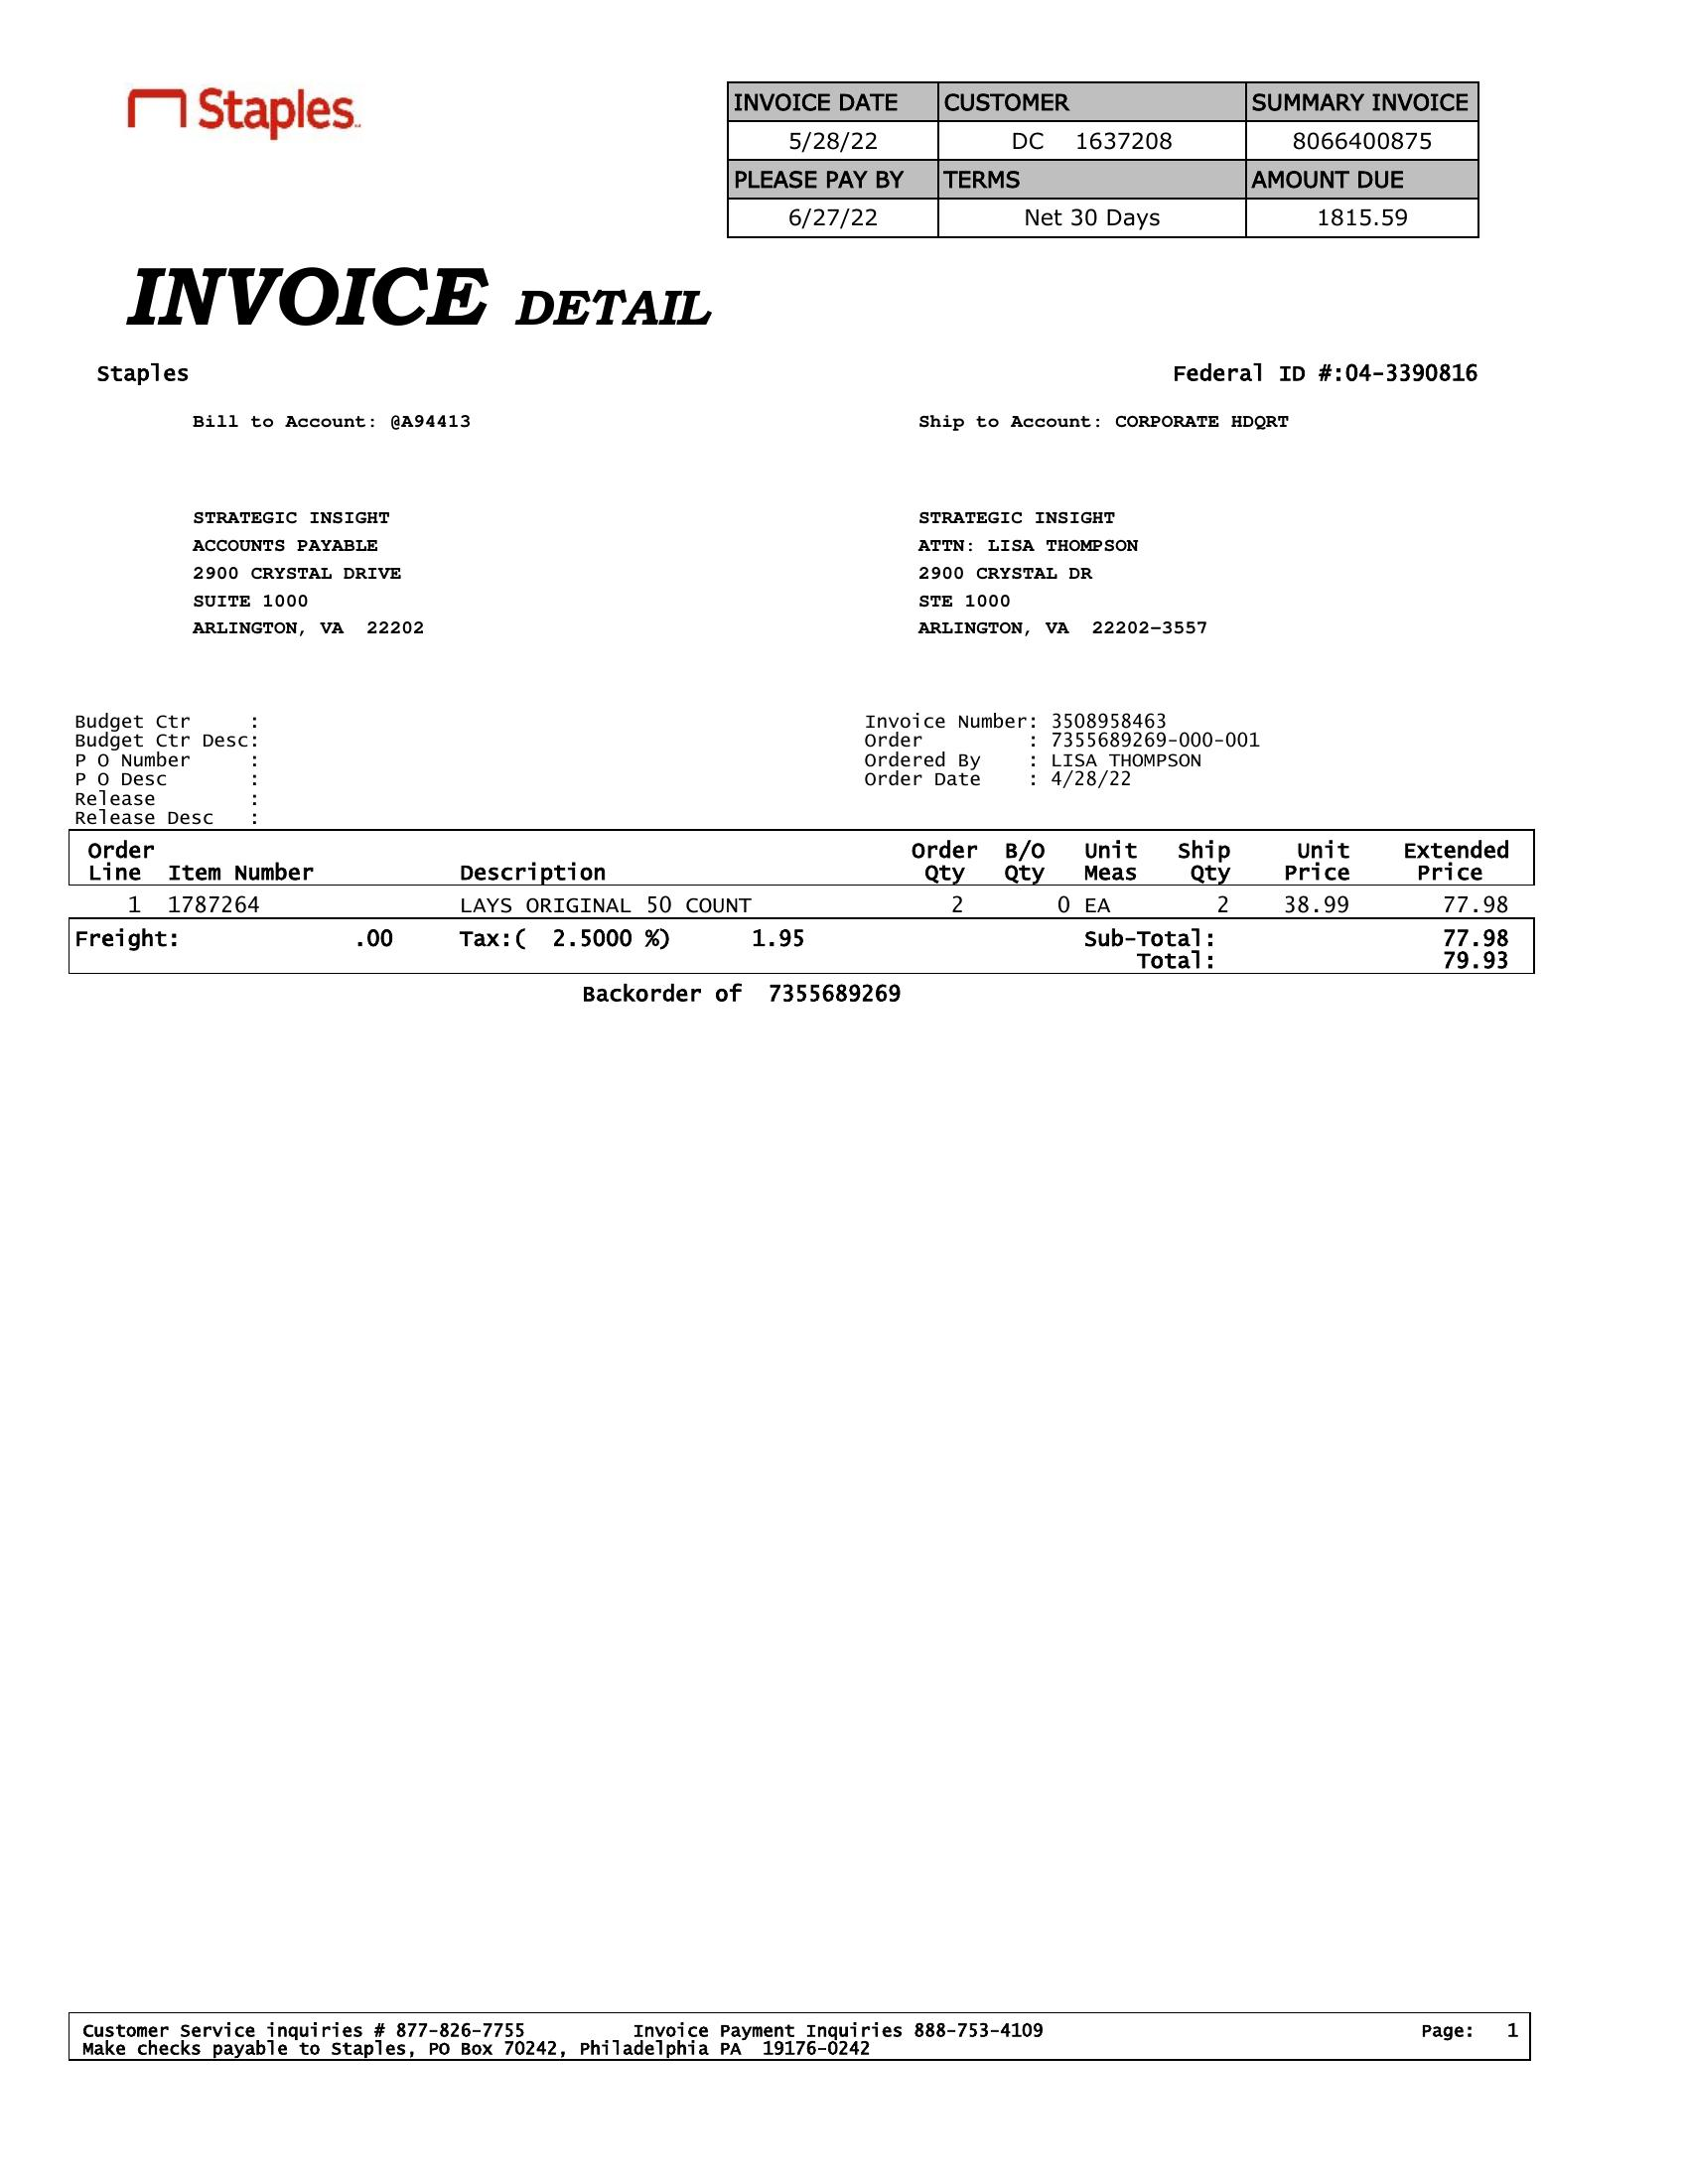table: (718, 64, 1498, 255), (73, 826, 1543, 913)
